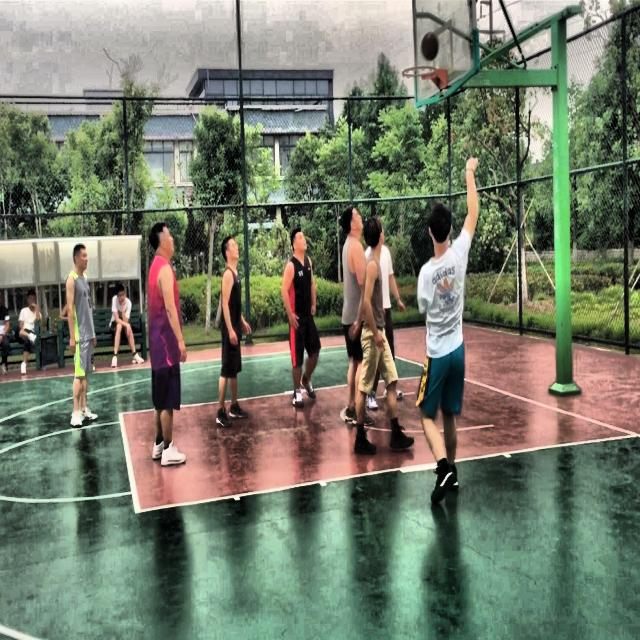board: (421, 32, 438, 60)
